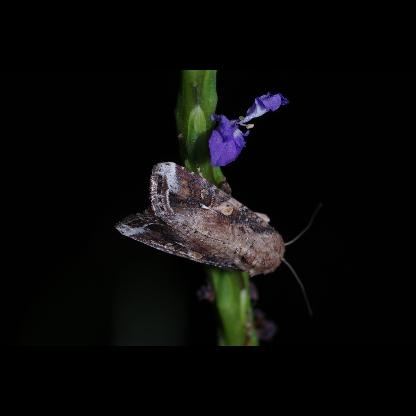Fall Armyworm Moth: (113, 159, 327, 323)
